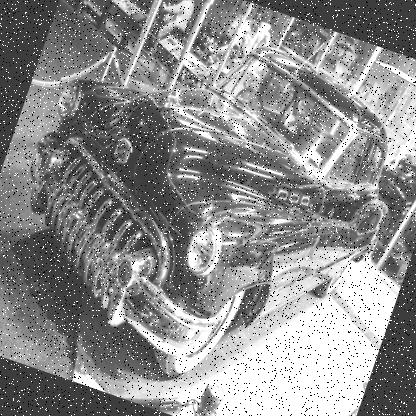Car: (0, 0, 415, 415), (338, 153, 415, 287)
